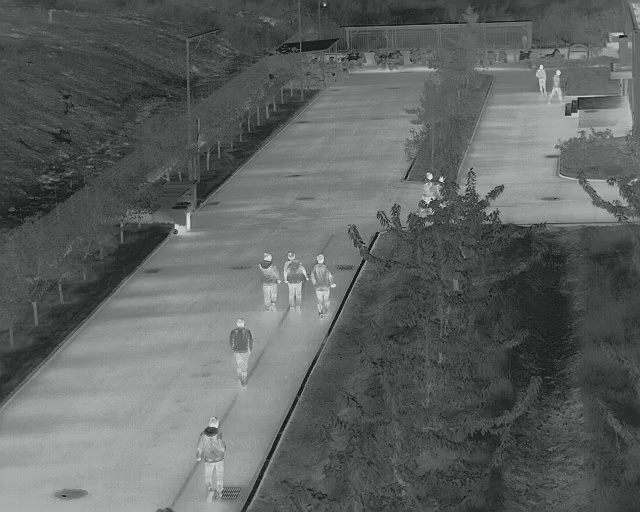person: (194, 416, 225, 501), (309, 253, 337, 321), (228, 318, 254, 388), (283, 250, 310, 315), (258, 250, 281, 314), (548, 69, 564, 106), (535, 62, 549, 96), (421, 170, 433, 209)
